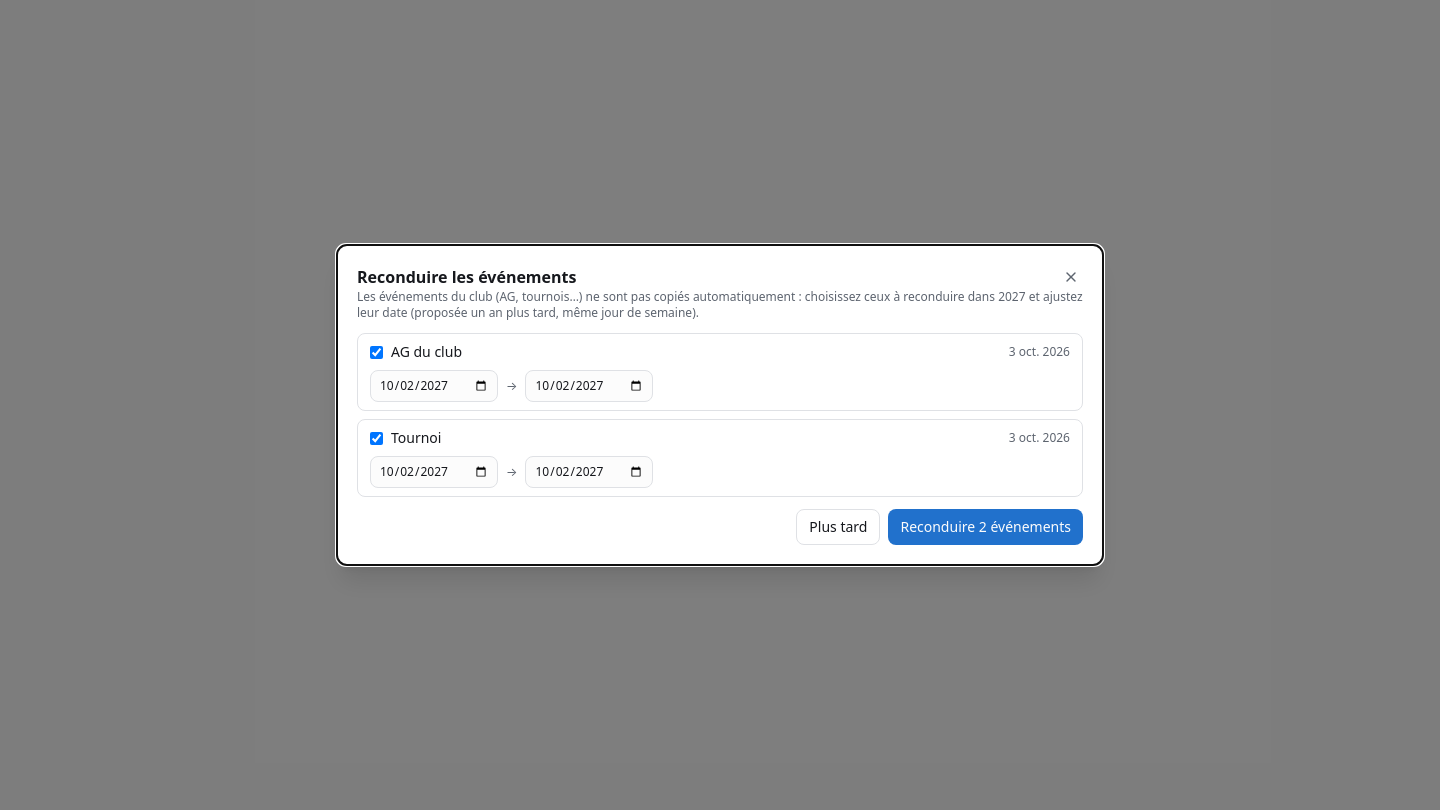
it: RedateEventsDialog › stays open on a PARTIAL failure even though the target now has events
The width and height of the screenshot is (1440, 810).
Check: the text "AG du club" is shown, box [391,342,462,361]
Click the button "Reconduire 2 événements" at (986, 527), box [888,509,1083,545]
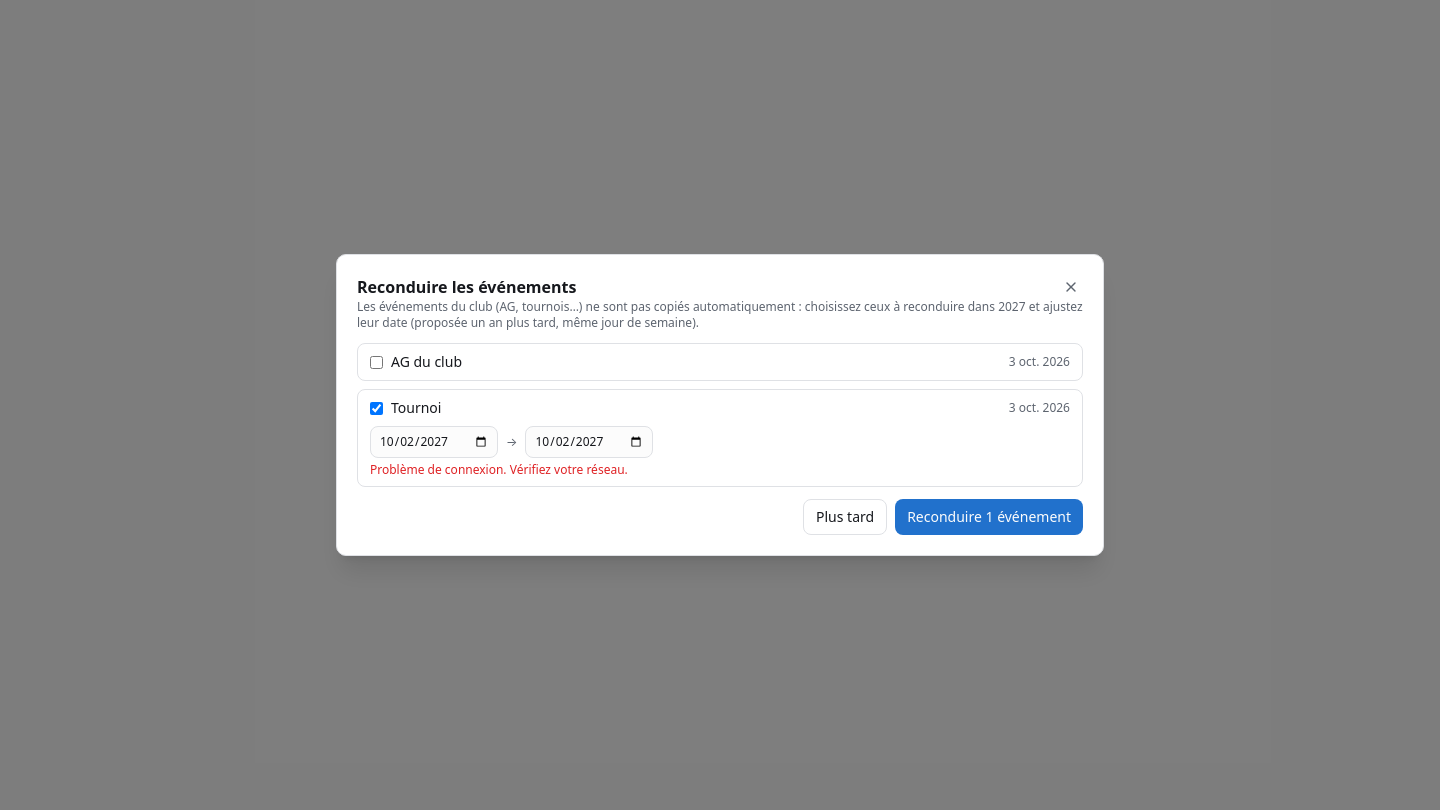
Check: the text "Problème de connexion. Vérifiez votre réseau." is shown, box [370,461,628,478]
